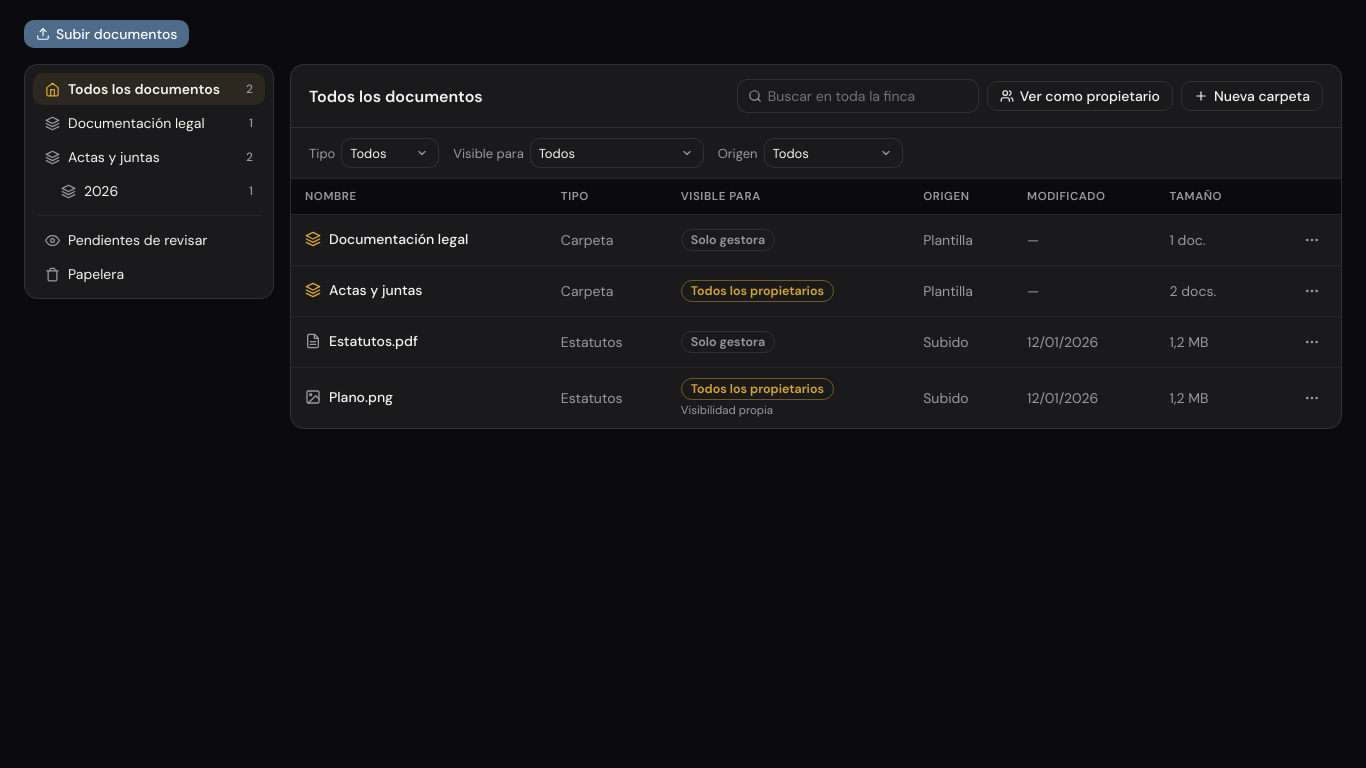
LibraryTabComponent › a failed download says why, with the server message
The image size is (1366, 768).
Click the 3rd button with class "action-btn": (1312, 342) top-left (1297, 327), bottom-right (1327, 357)
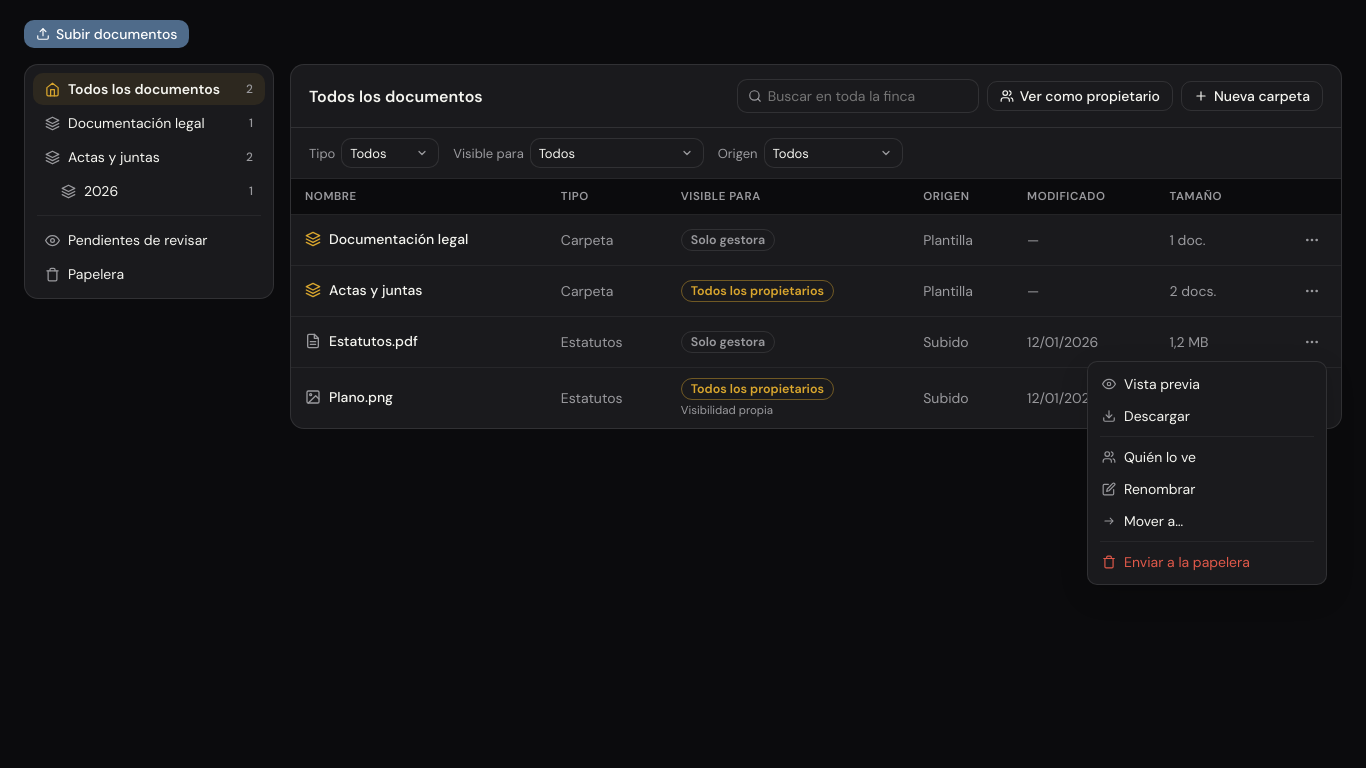
Click the menu item "Descargar": (1207, 416) top-left (1094, 400), bottom-right (1320, 432)
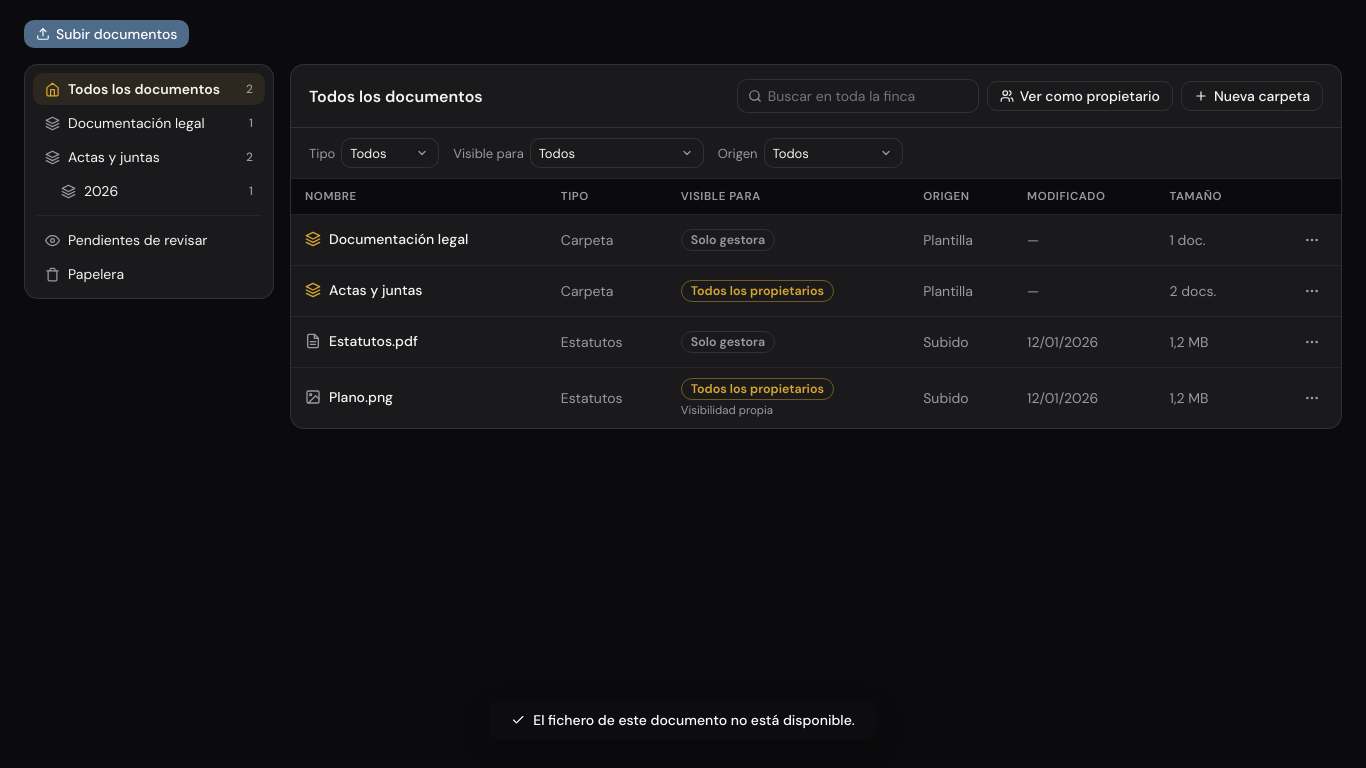
Result: the message with class "toast" reads "El fichero de este documento no está disponible." at top-left (533, 711), bottom-right (855, 729)
